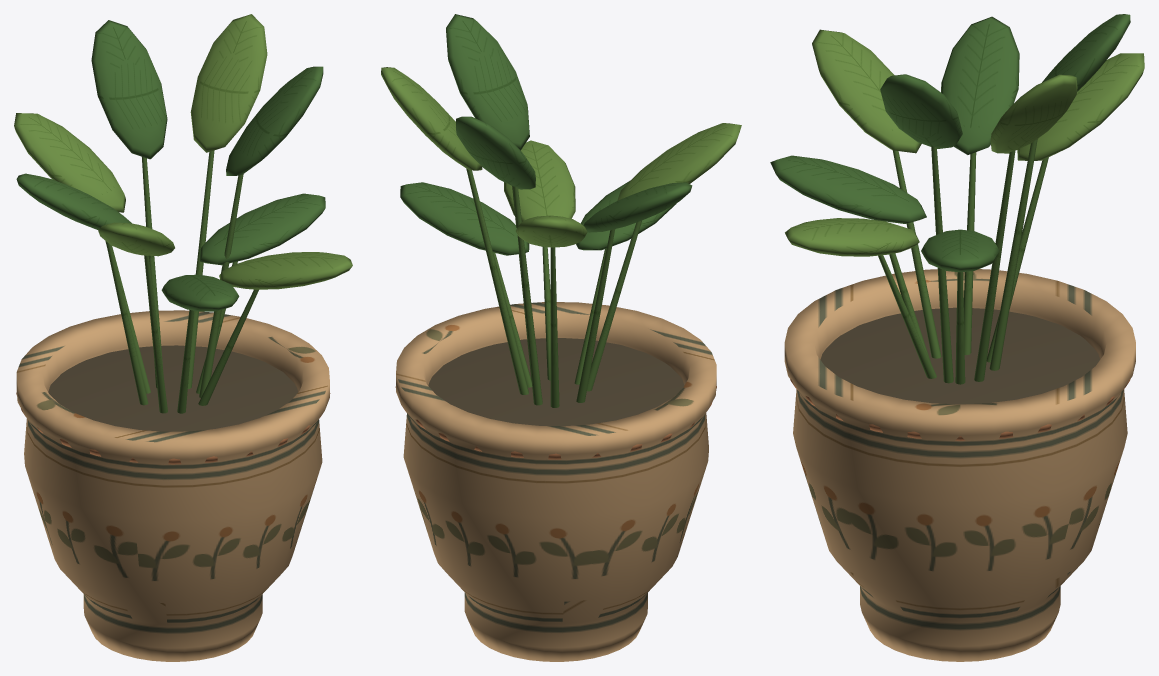
The model's file is macetero.glb.
3 renders of one model, left to right at view 1: azimuth 30°, elevation 25°; view 2: azimuth 150°, elevation 25°; view 3: azimuth 270°, elevation 25°, orthographic. The views are drawn at different scales.
Visible parts, largest first — view 1: macetero; view 2: macetero; view 3: macetero.
Boxes of the visible parts, x1,y1,x2,y2 form: macetero: [14, 14, 352, 661]; macetero: [381, 14, 741, 661]; macetero: [770, 14, 1144, 661].
Bounding box in the file's own units: 0.4549 × 0.8101 × 0.4476.
1 material, 1 textured.
